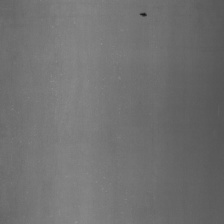inclusion: (138, 7, 150, 23)
